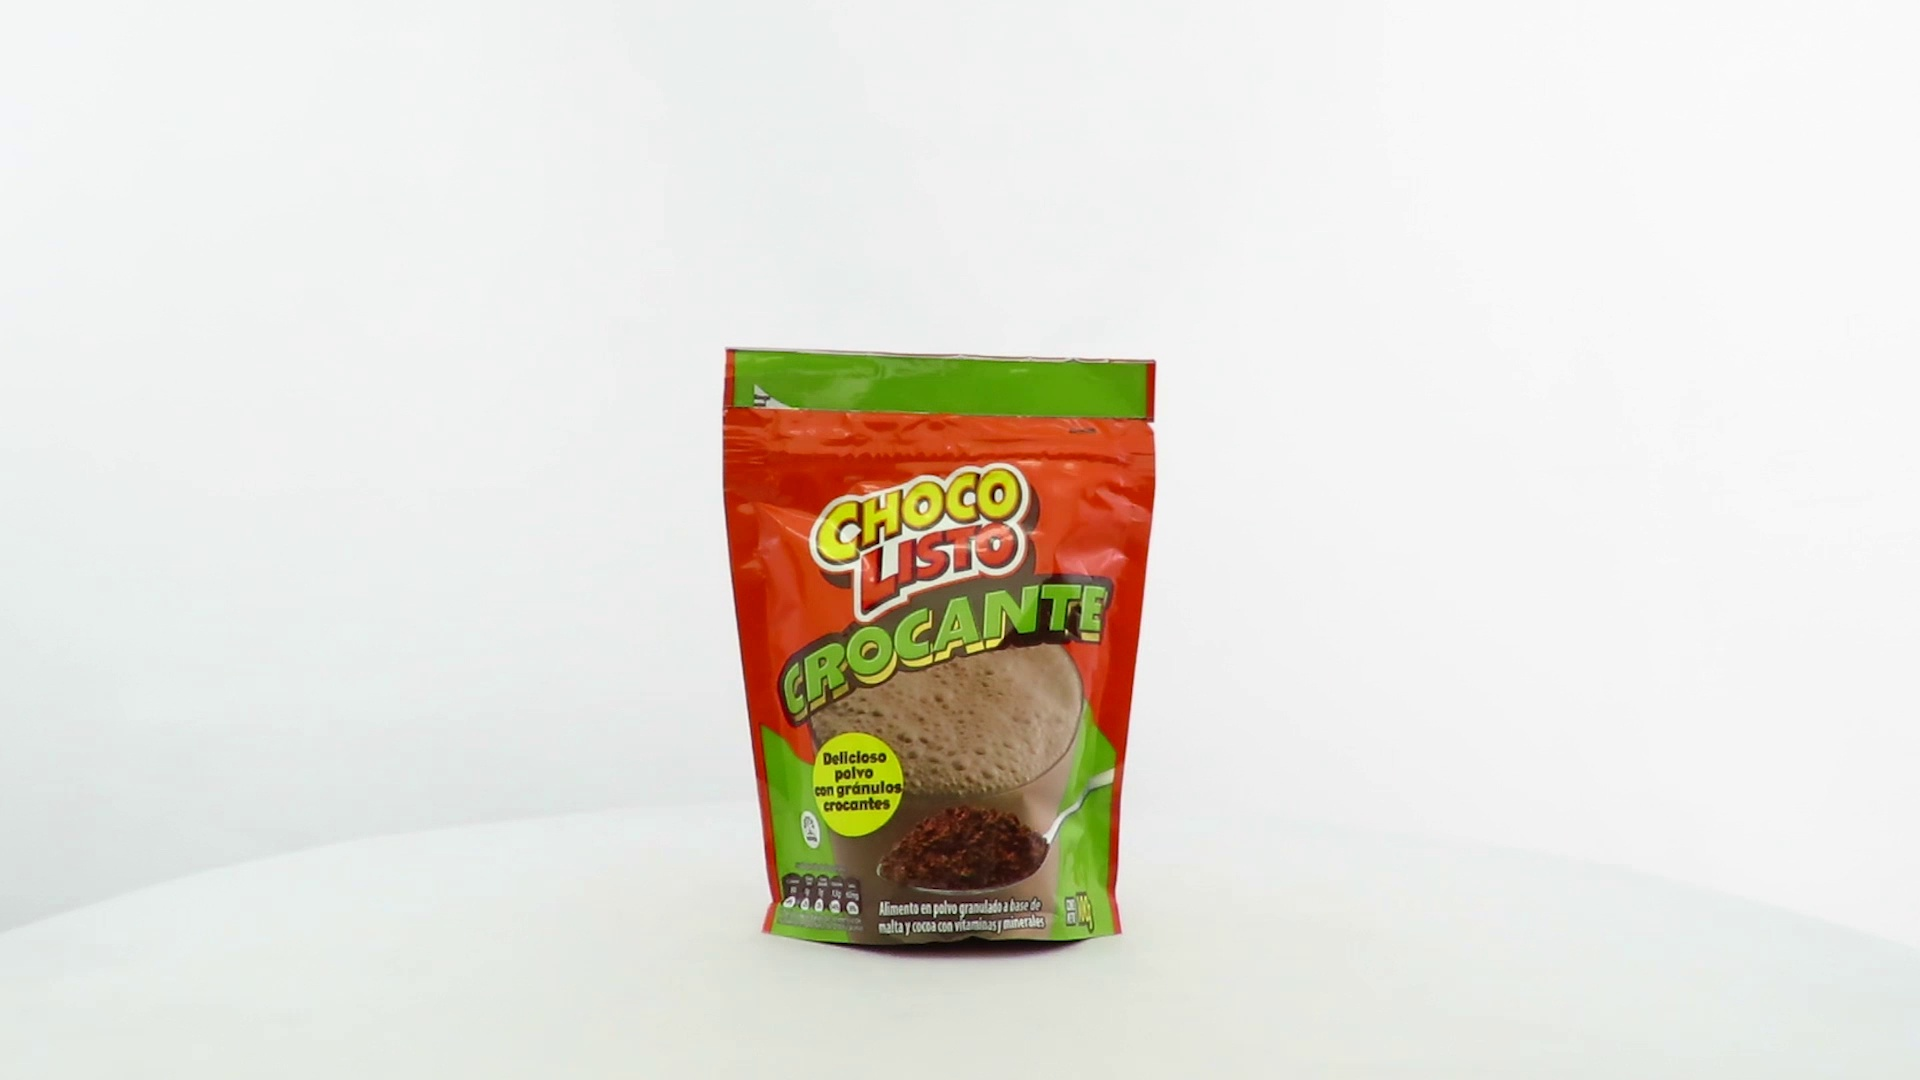COL0170102DYP10000: (717, 342, 1162, 965)
